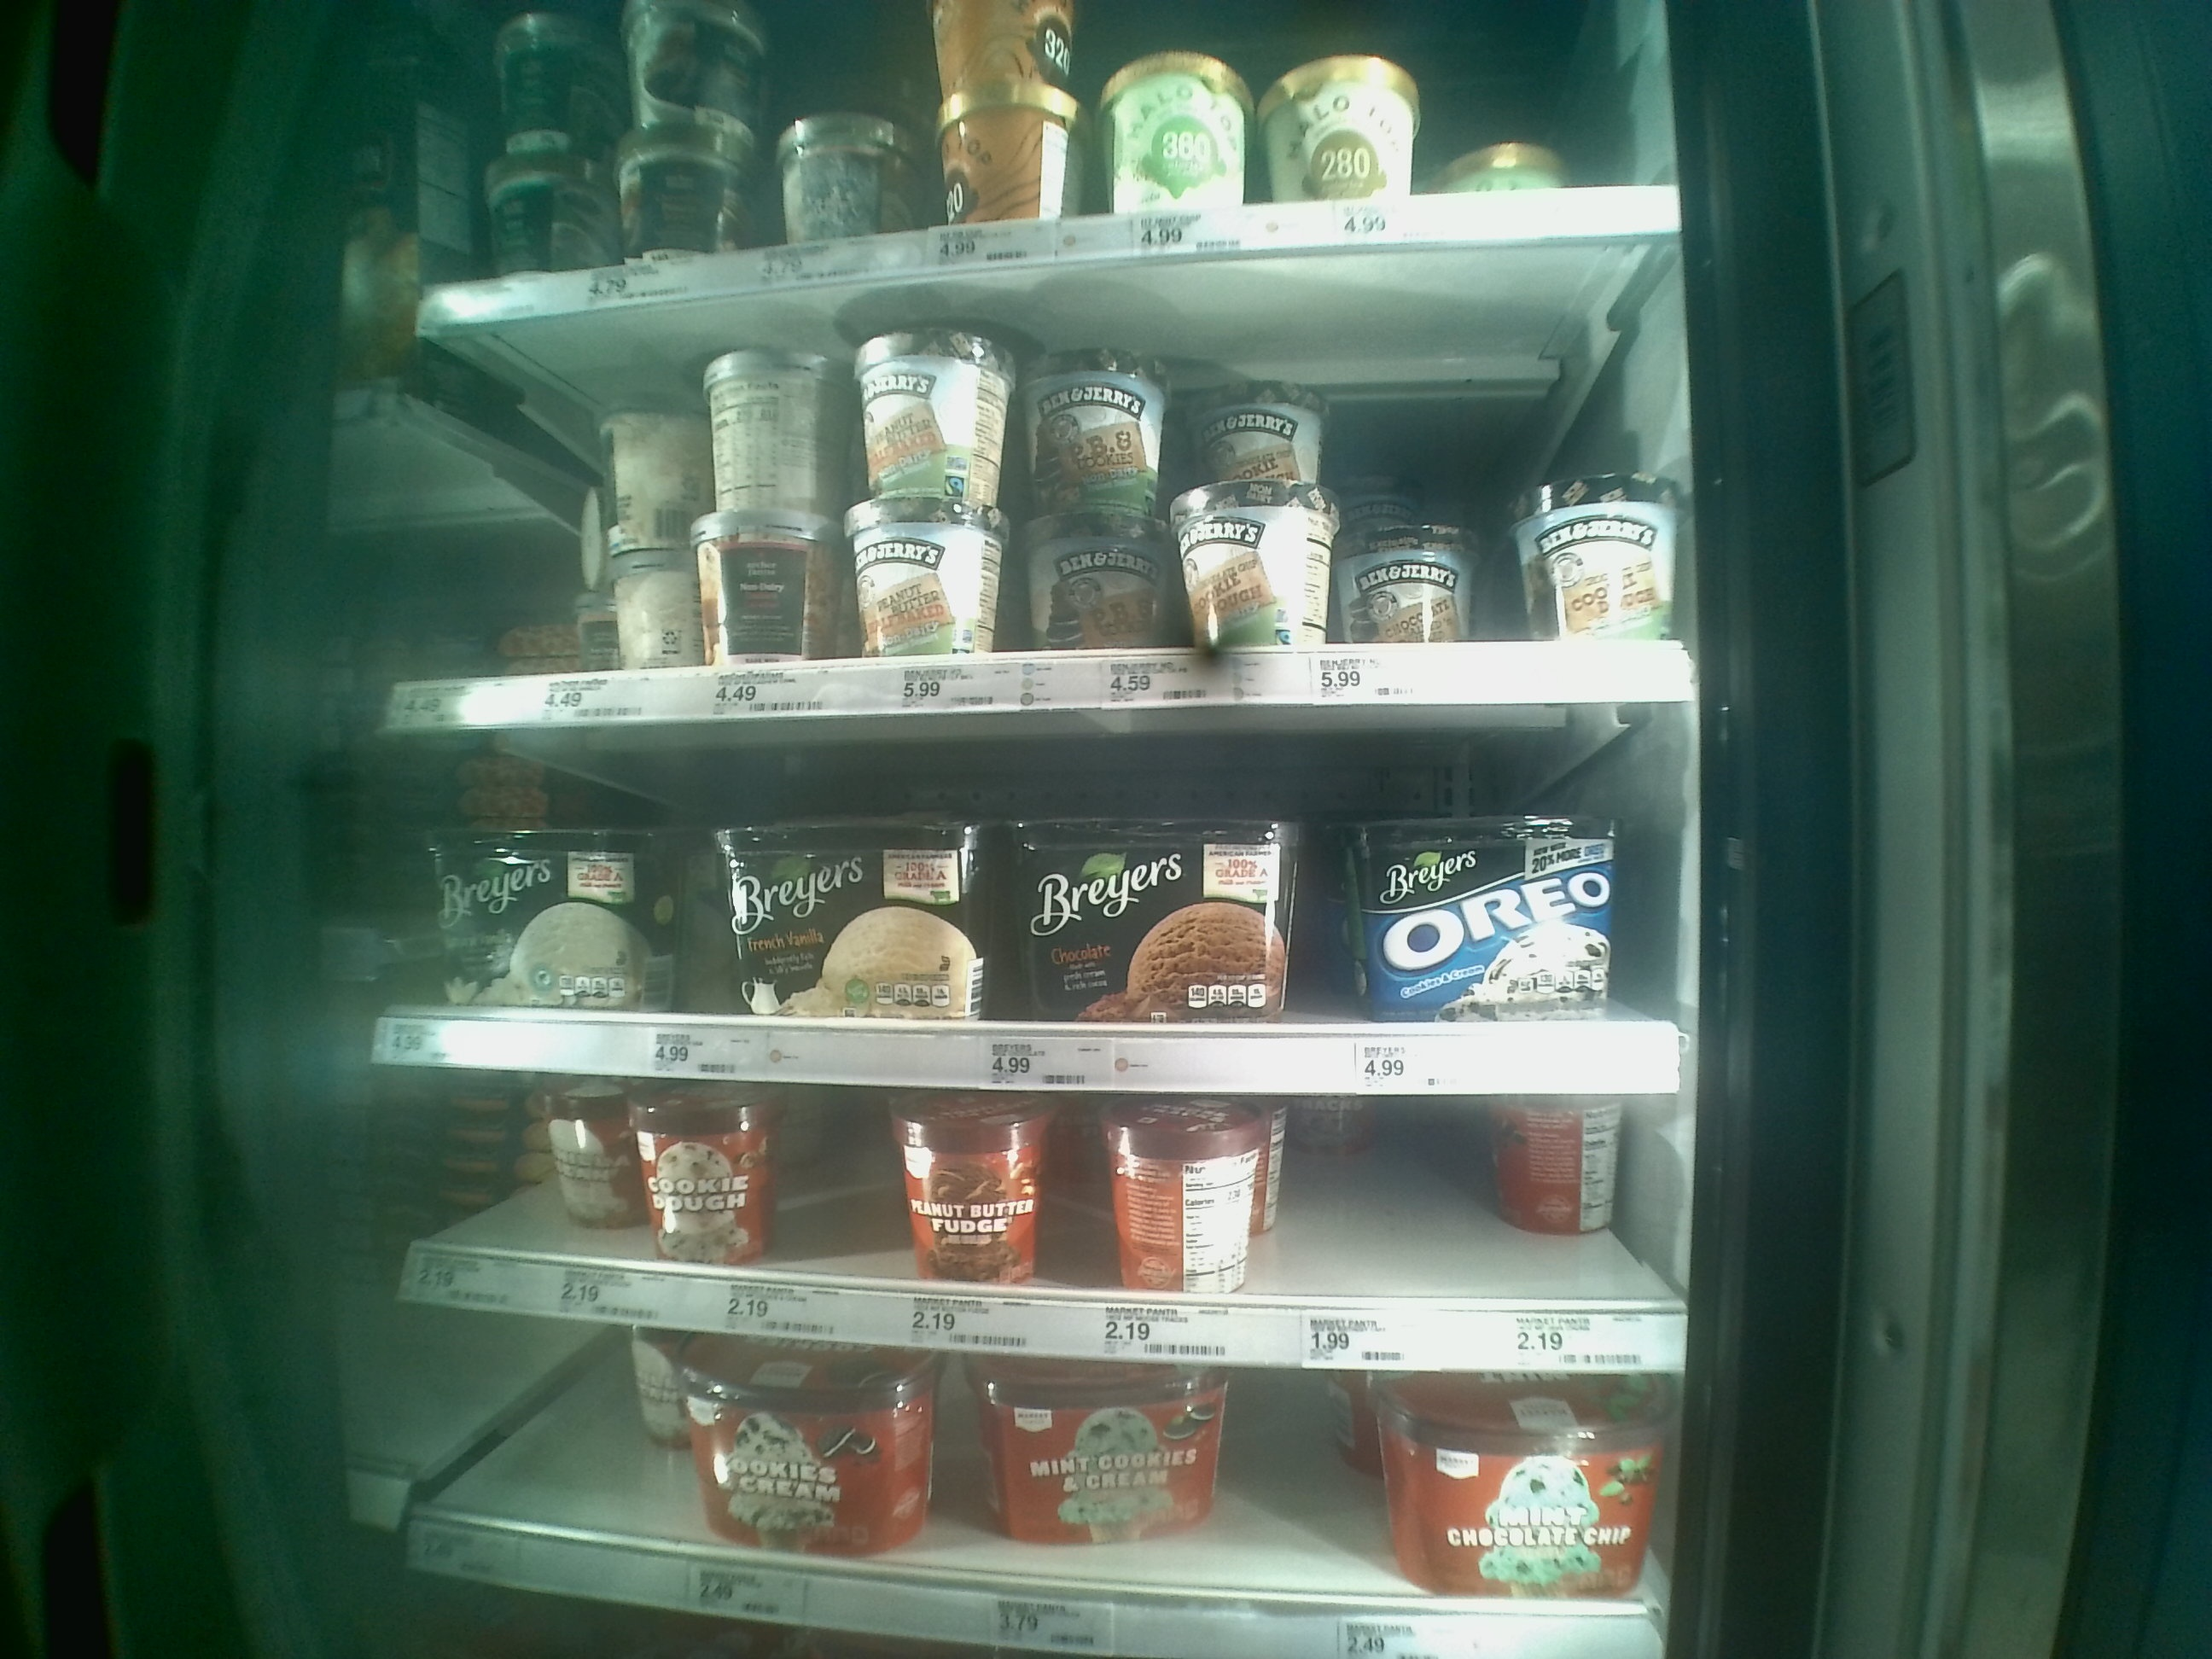shelf: (378, 295, 1686, 716), (376, 730, 1703, 1082), (395, 1323, 1658, 1659), (376, 1077, 1677, 1347)
